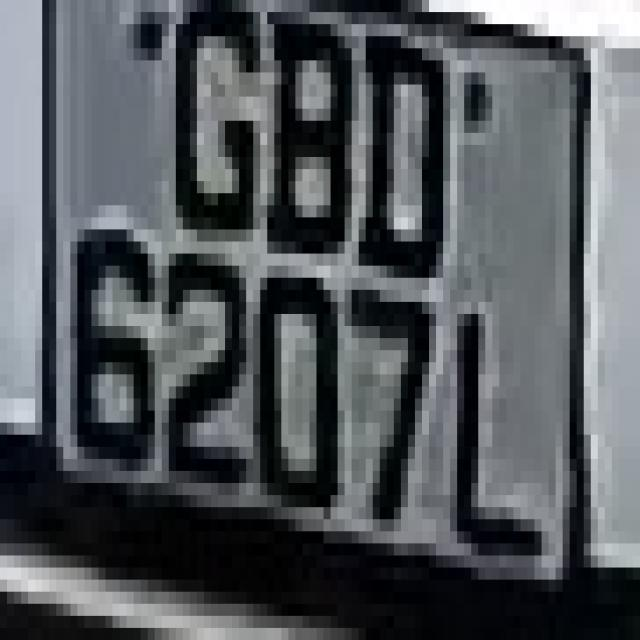0: (232, 266, 352, 556)
2: (134, 218, 260, 532)
6: (70, 169, 155, 531)
7: (338, 253, 443, 580)
B: (246, 12, 359, 314)
D: (345, 0, 457, 314)
G: (162, 12, 267, 254)
L: (450, 278, 549, 592)
